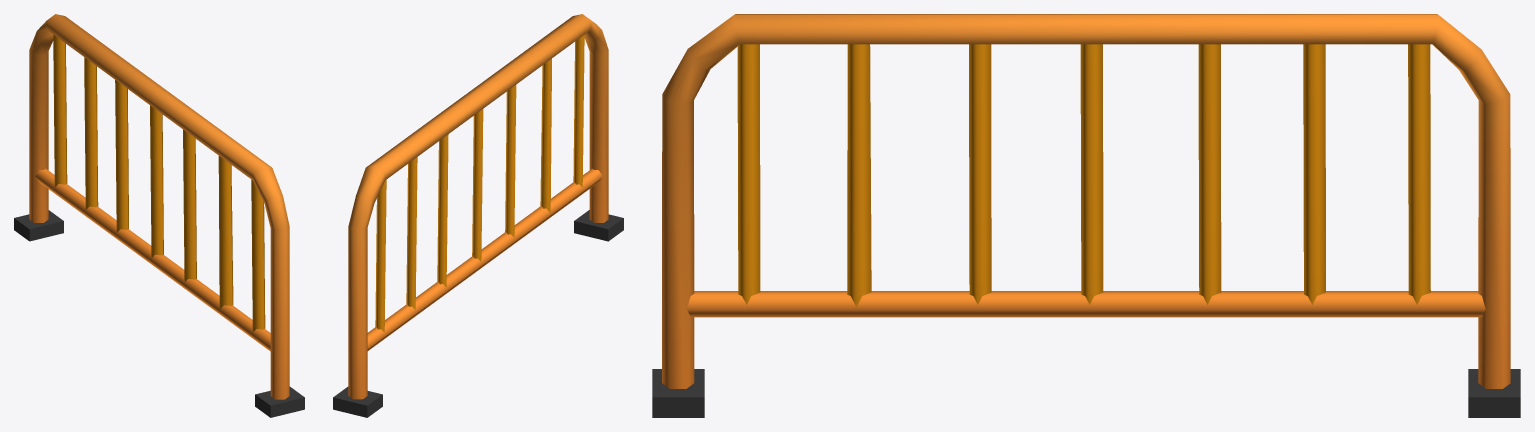
The model's file is Barier_4_E.fbx.
3 renders of one model, left to right at view 1: azimuth 30°, elevation 25°; view 2: azimuth 150°, elevation 25°; view 3: azimuth 270°, elevation 25°, orthographic. The views are drawn at different scales.
Parts seen in each view (by area): view 1: Barier_4_E; view 2: Barier_4_E; view 3: Barier_4_E.
Part boxes in pixels (<box>): Barier_4_E: <box>14,14,304,417</box>; Barier_4_E: <box>333,14,623,417</box>; Barier_4_E: <box>652,14,1520,417</box>.
Bounding box in the file's own units: 15.74 × 101 × 204.
